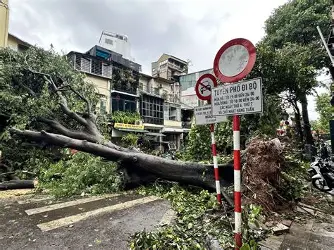ROAD_OBSTACLE: (3, 20, 331, 240)
